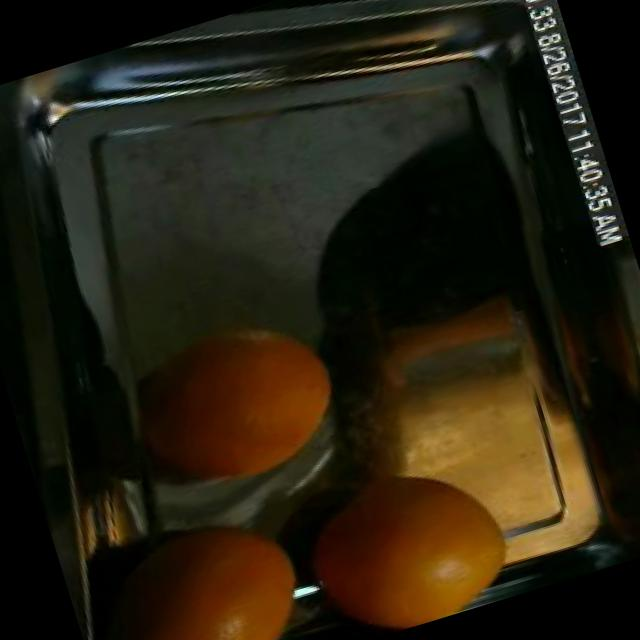Fruit: (76, 458, 177, 570)
